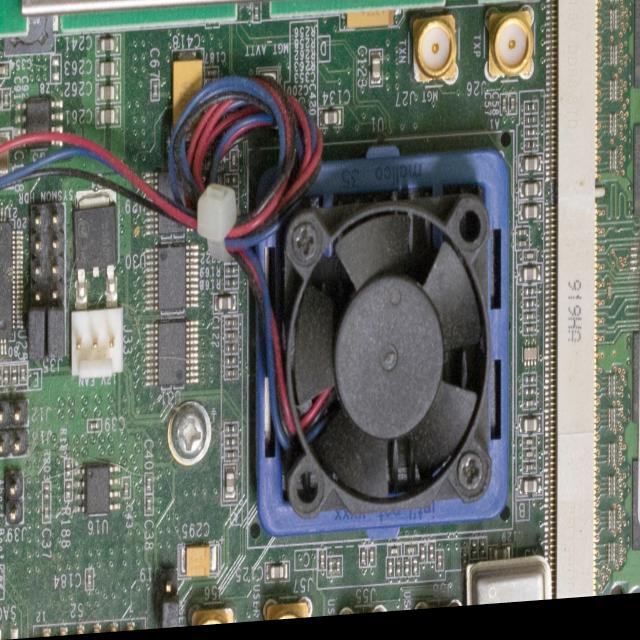IC: (247, 123, 511, 536), (146, 247, 199, 319), (146, 321, 199, 392), (0, 208, 25, 356), (145, 169, 196, 239), (15, 99, 64, 151), (74, 465, 121, 518)
capacitor: (0, 129, 15, 190), (518, 159, 545, 185), (517, 270, 544, 295), (518, 208, 545, 233), (519, 185, 545, 210), (264, 564, 290, 588), (518, 422, 544, 446), (231, 533, 246, 573), (96, 83, 121, 107), (518, 483, 544, 506), (96, 108, 122, 131), (96, 59, 121, 82), (96, 36, 122, 58), (213, 296, 238, 318), (318, 112, 344, 133), (370, 59, 384, 98), (490, 553, 512, 568), (204, 68, 220, 86), (42, 502, 52, 526), (508, 100, 518, 124), (85, 568, 94, 594), (2, 89, 12, 111), (120, 482, 129, 505), (0, 62, 11, 80), (145, 496, 153, 519), (145, 474, 153, 497), (151, 82, 159, 104), (501, 101, 508, 125), (0, 88, 2, 110)
clock: (467, 564, 553, 613)
connector: (265, 137, 369, 371), (72, 278, 122, 380), (485, 11, 535, 92), (409, 18, 459, 96), (31, 204, 65, 305), (0, 399, 31, 458), (188, 604, 239, 629), (4, 470, 25, 527), (263, 602, 314, 625), (338, 609, 390, 620), (160, 568, 178, 599), (414, 605, 464, 616)
electrolytic capacitor: (172, 52, 206, 144), (178, 544, 221, 583)
jumper: (29, 304, 46, 361), (159, 600, 179, 630)
pads: (50, 55, 62, 86)
resistor: (606, 382, 619, 406), (606, 550, 618, 575), (606, 518, 618, 541), (607, 415, 618, 440), (606, 484, 618, 506), (606, 452, 618, 474), (609, 86, 619, 111), (609, 18, 620, 40), (609, 158, 619, 182), (608, 121, 618, 144), (609, 54, 619, 76), (64, 480, 73, 504), (63, 432, 72, 456), (2, 363, 10, 387), (11, 363, 19, 386), (225, 282, 239, 294), (608, 0, 620, 12), (226, 269, 240, 279), (0, 363, 3, 387)
switch: (31, 621, 146, 638), (0, 628, 30, 640)
transistor: (74, 189, 119, 276)
